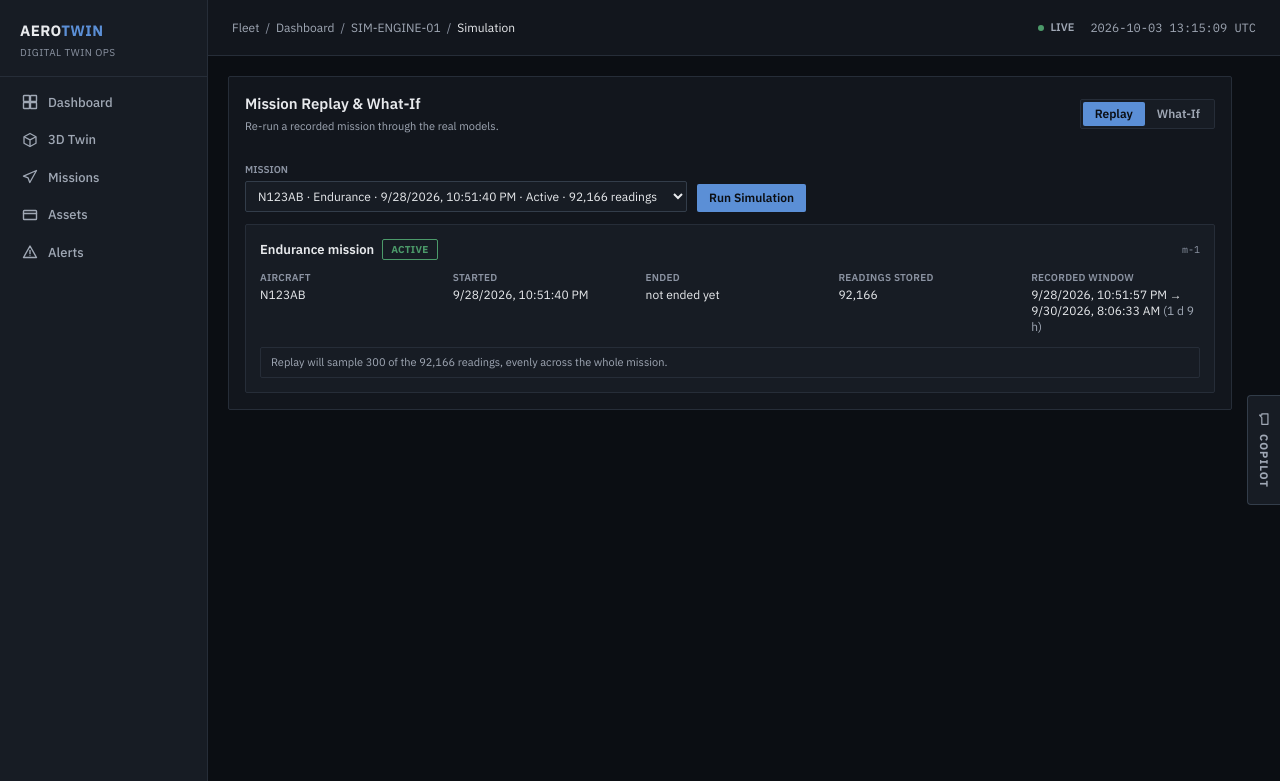
it: SimulationReplay page — mode isolation › Replay works exactly as before and shows no What-If UI
Expected: the element with test id "mission-info" is shown, [245,224,1215,392]
Click the button "Run Simulation" at (752, 198), box [697,184,806,212]
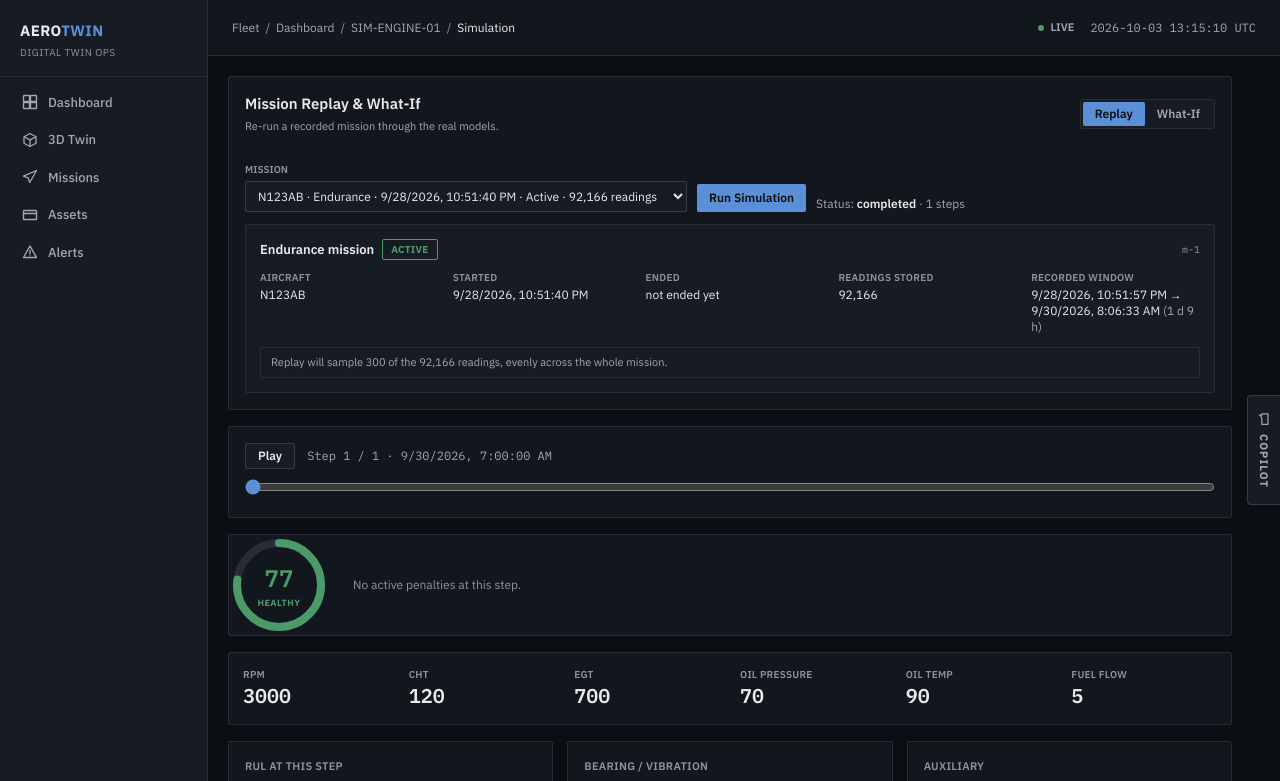
Now the text "Step 1 / 1 · 9/30/2026, 7:00:00 AM" is shown, box [307,448,552,464]
